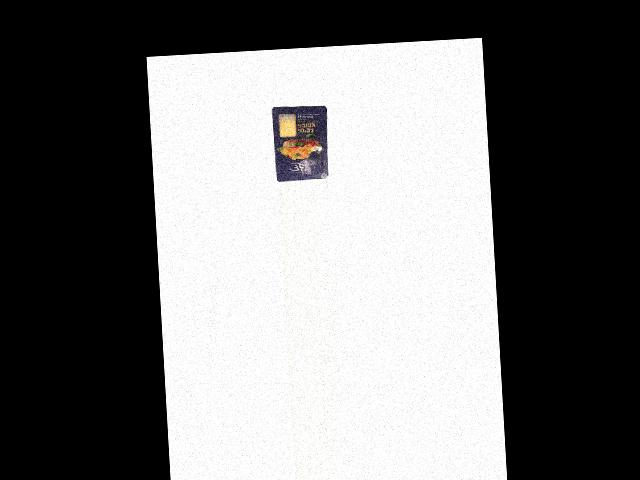cheese: (271, 103, 332, 182)
